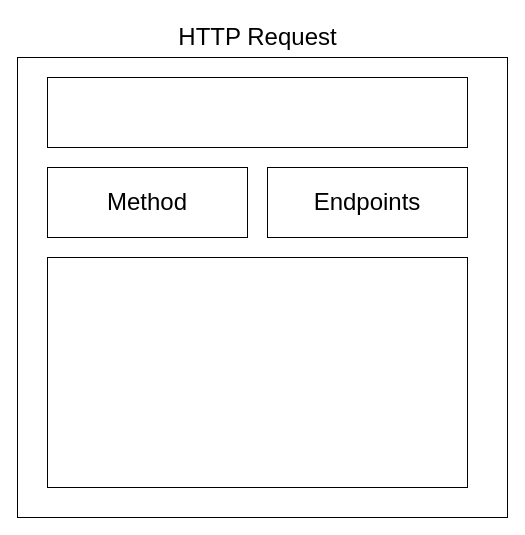
This 525x535 diagram has some shape labels left out. The centre of each missing label's shape, as x and y in pixels:
"Body" belongs at (257,372).
"Header" belongs at (257,112).
